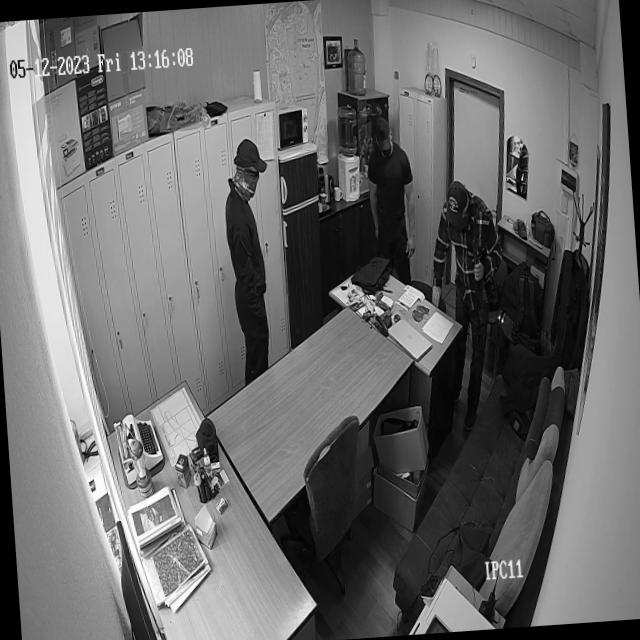gun: (470, 220, 485, 329)
person: (218, 136, 276, 272), (367, 115, 410, 224)
person with a gun: (429, 178, 518, 416)
